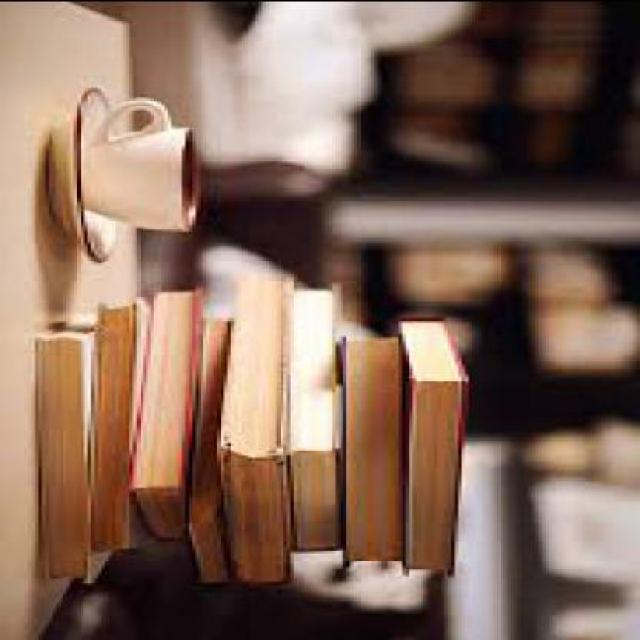PAPER: (129, 284, 217, 538), (392, 312, 476, 570), (224, 312, 298, 582), (38, 312, 108, 582), (280, 272, 346, 550), (342, 330, 413, 564), (94, 296, 158, 550), (179, 312, 238, 582)
